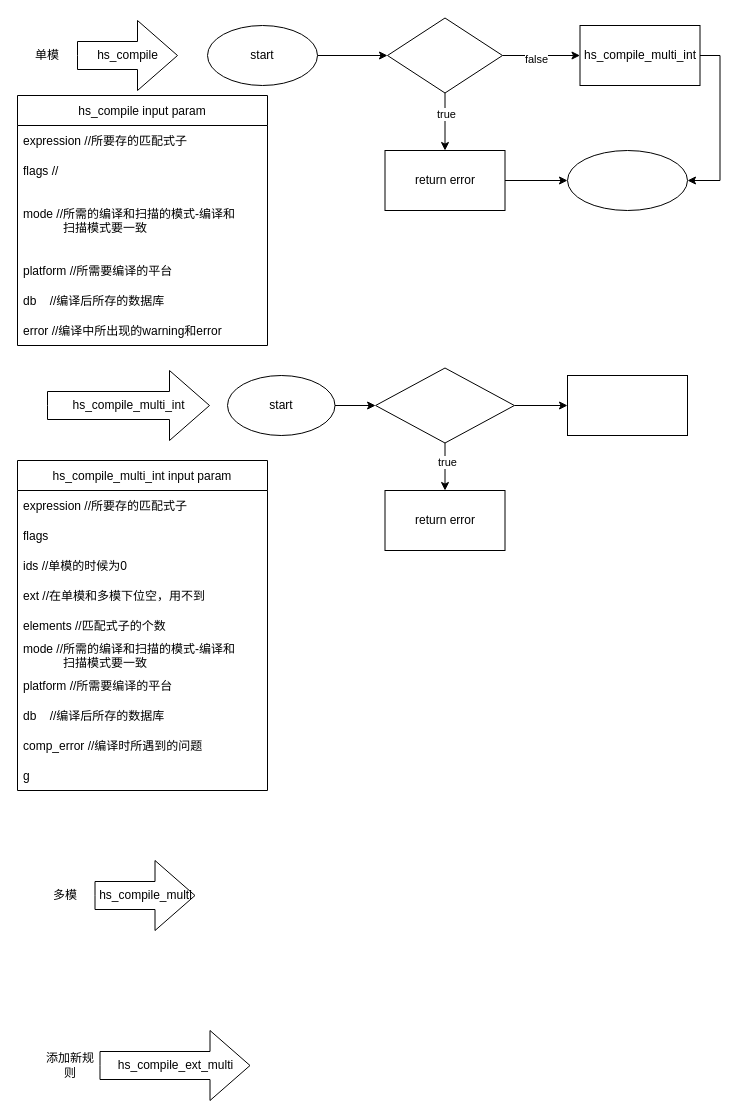
The diagram is 746 pixels wide and 1118 high, and some of its shapes have lost their labels. Here are the shapes that lost their labels. From the top down, the centre of each, then its label:
At [444,55]: "expression == nullptr".
At [627,180]: "end".
At [444,405]: "many judgements".
